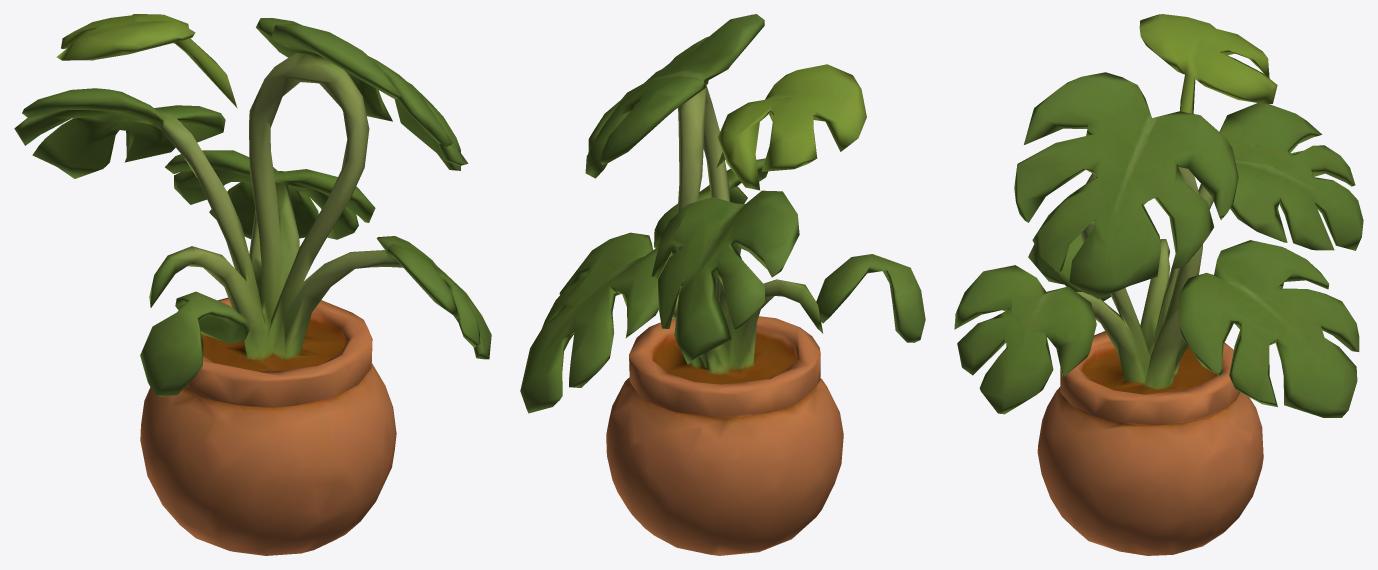
File: f-plant.glb
The picture shows the model from 3 angles, left to right: view 1: azimuth 30°, elevation 25°; view 2: azimuth 150°, elevation 25°; view 3: azimuth 270°, elevation 25°; orthographic projection. The views are drawn at different scales.
Parts seen in each view (by area): view 1: tripo_node_f489cd00-f61d-4ba0-a899-6191422ed6e7; view 2: tripo_node_f489cd00-f61d-4ba0-a899-6191422ed6e7; view 3: tripo_node_f489cd00-f61d-4ba0-a899-6191422ed6e7.
Boxes of the visible parts, bbox=[...] form: tripo_node_f489cd00-f61d-4ba0-a899-6191422ed6e7: bbox=[14, 14, 491, 555]; tripo_node_f489cd00-f61d-4ba0-a899-6191422ed6e7: bbox=[520, 14, 925, 555]; tripo_node_f489cd00-f61d-4ba0-a899-6191422ed6e7: bbox=[954, 14, 1363, 555].
Bounding box in the file's own units: 0.6798 × 1 × 0.8127.
1 material, 1 textured.
